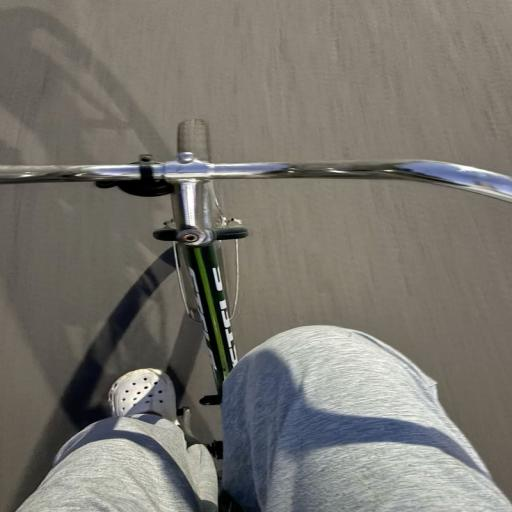bag: (0, 120, 511, 404)
laptop: (222, 327, 511, 511)
